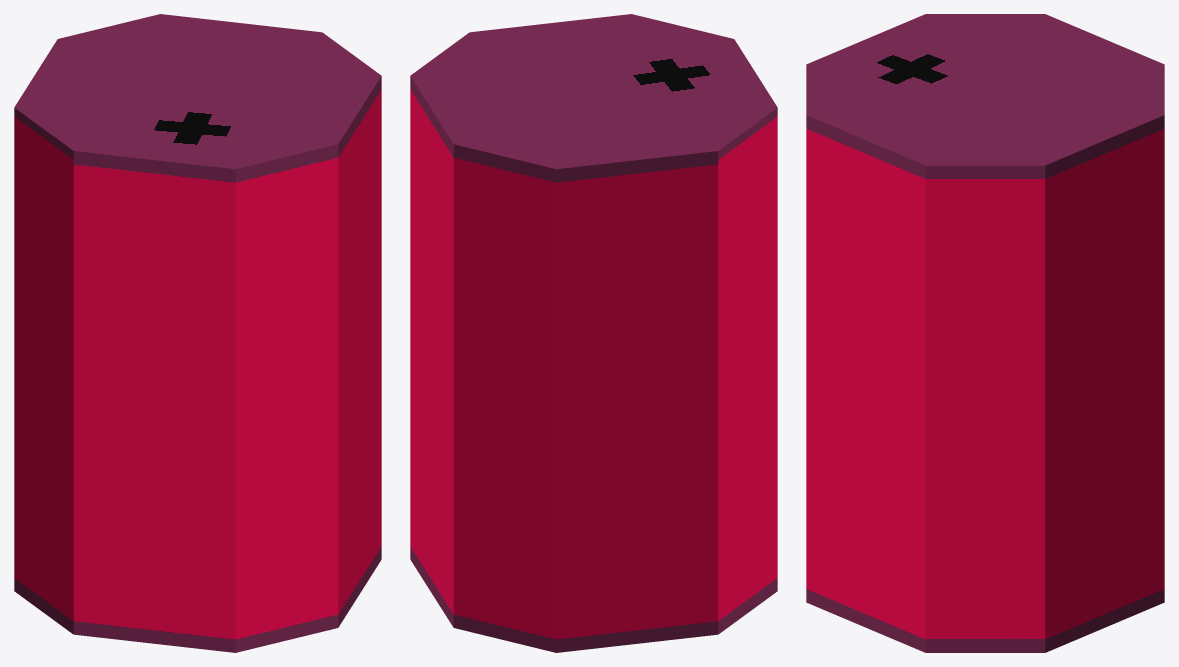
The model's file is barrel.gltf.
3 renders of one model, left to right at view 1: azimuth 30°, elevation 25°; view 2: azimuth 150°, elevation 25°; view 3: azimuth 270°, elevation 25°, orthographic.
Visible parts, largest first — view 1: barrel; view 2: barrel; view 3: barrel.
Boxes of the visible parts, left/top/right/bottom form: barrel: left=14, top=14, right=381, bottom=652; barrel: left=410, top=14, right=777, bottom=652; barrel: left=806, top=14, right=1164, bottom=652.
Size of the model in its own units: 1.5 by 2.25 by 1.5.
1 material, 1 textured.
